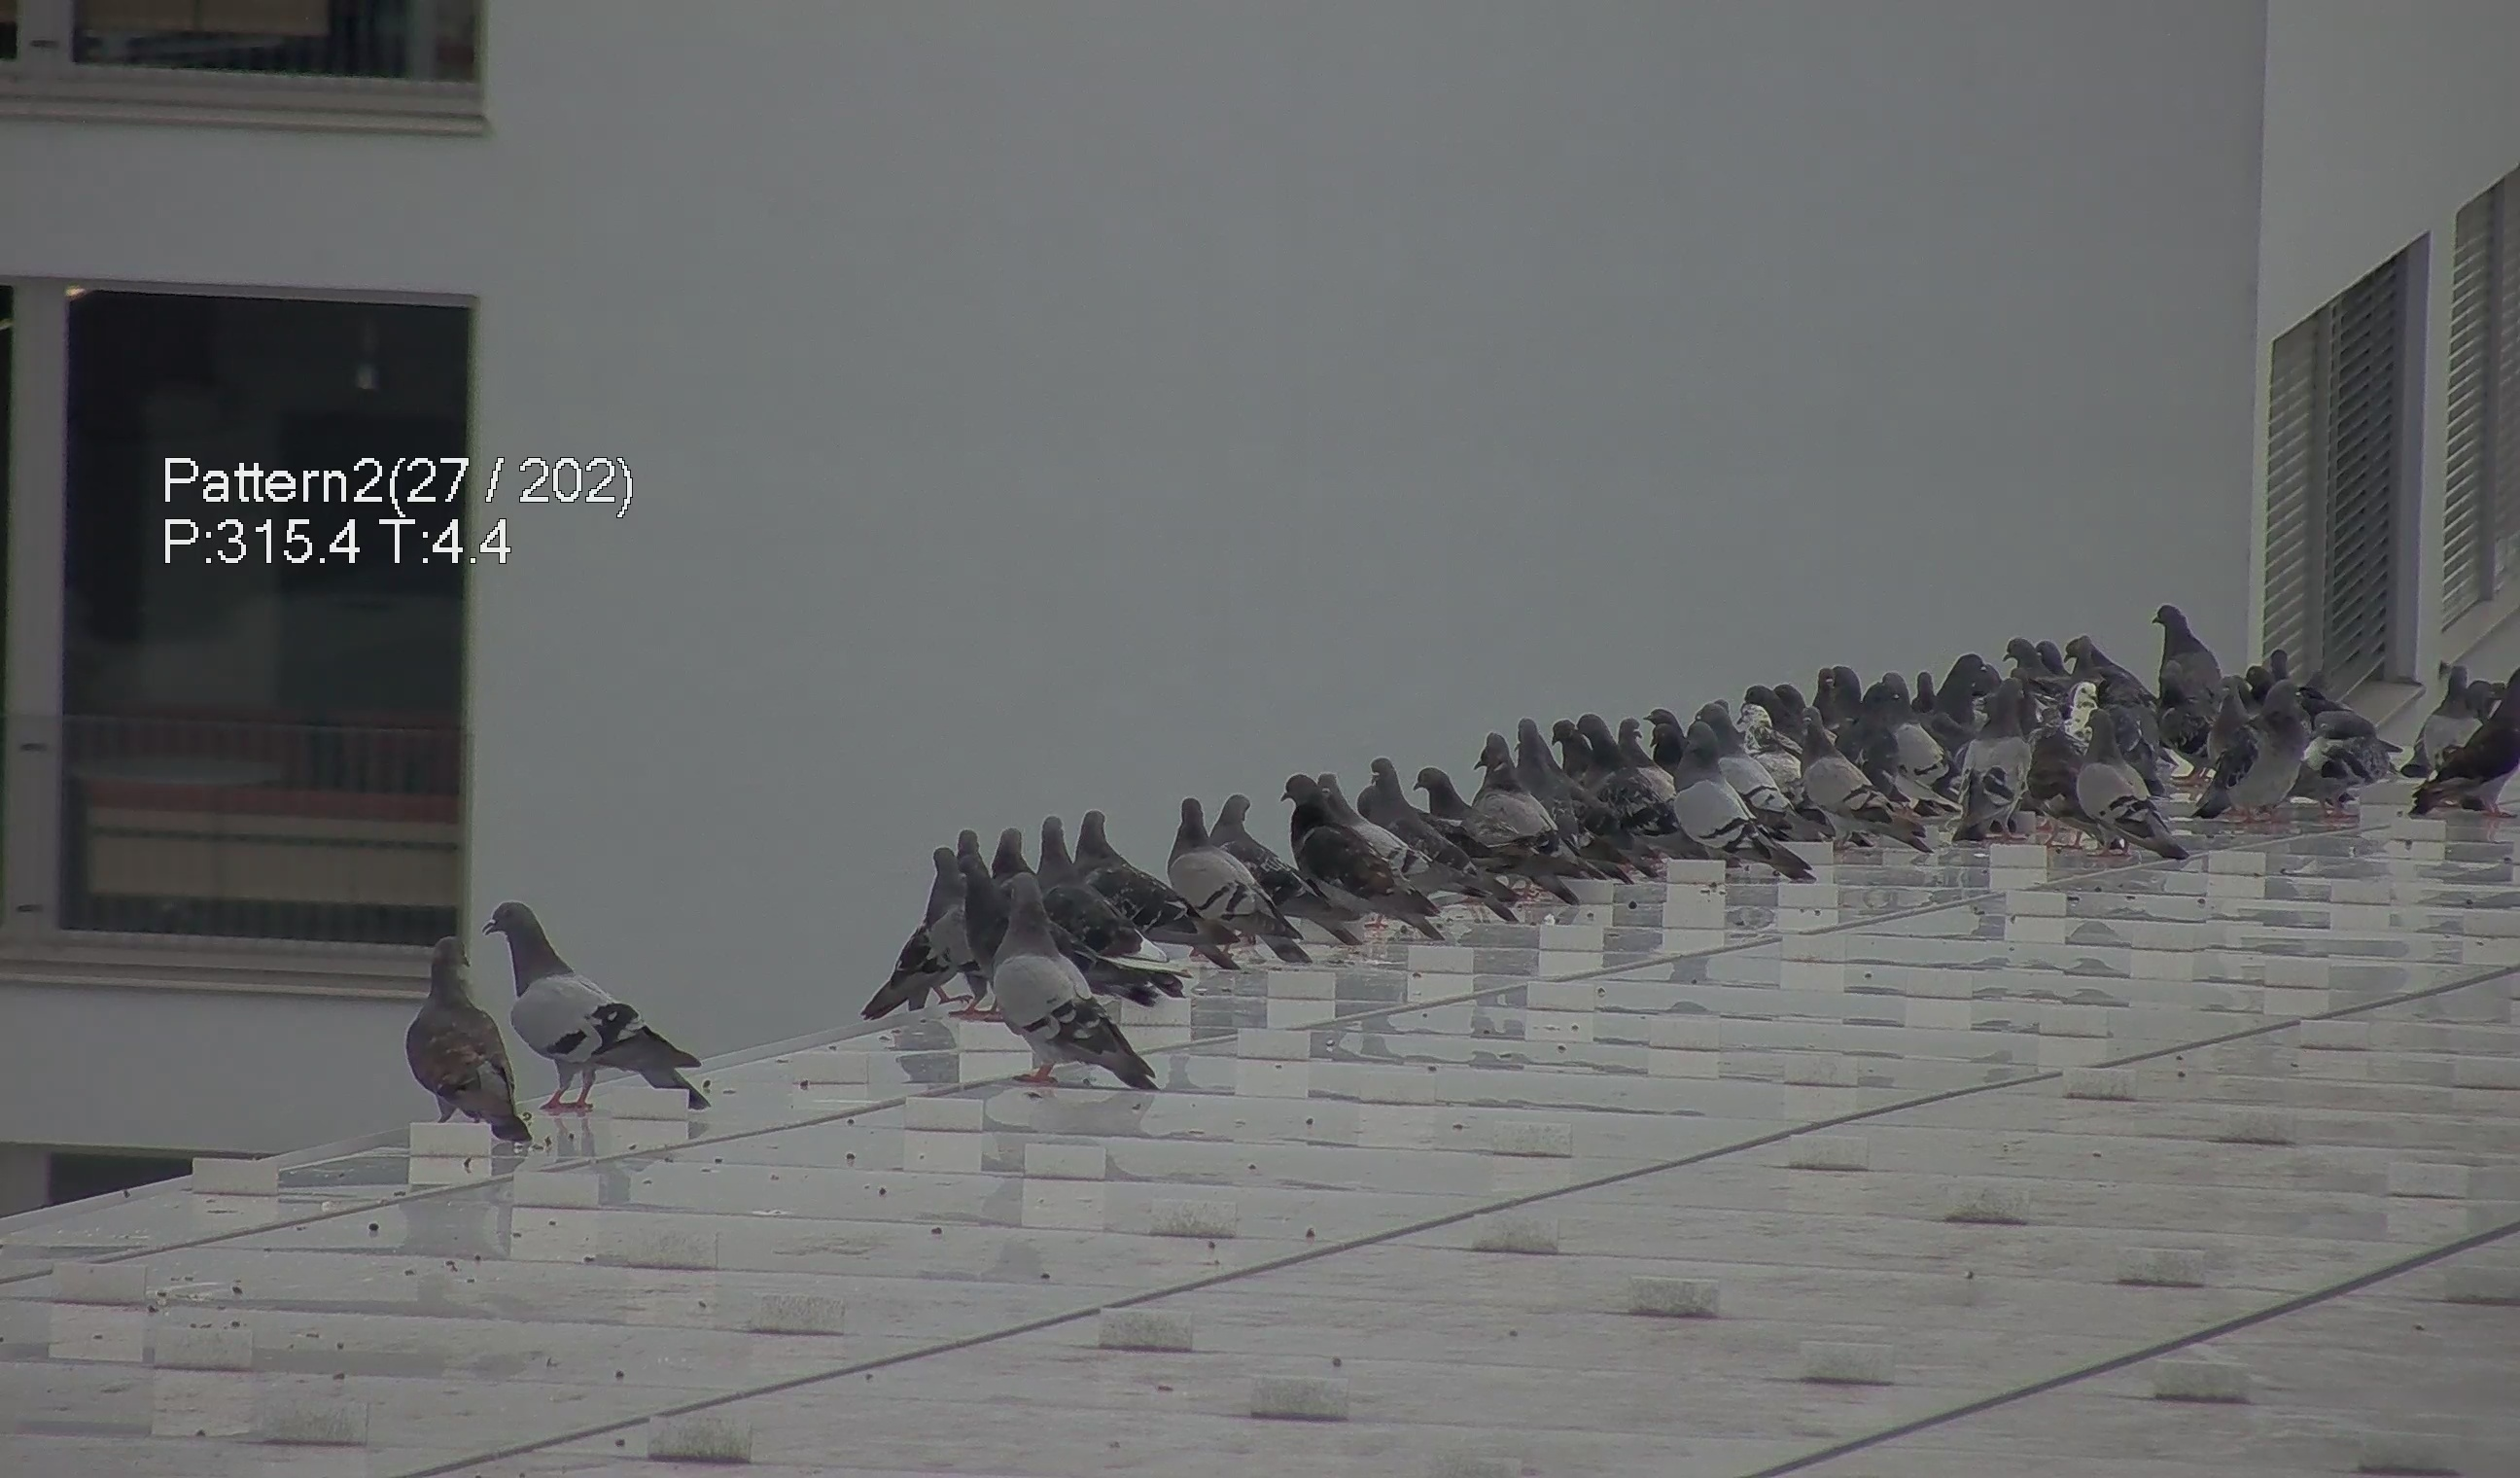Pigeon: (929, 830, 1162, 1091), (461, 892, 702, 1128), (376, 927, 531, 1156), (2181, 669, 2367, 836), (1189, 767, 1351, 936), (1164, 790, 1315, 964), (1662, 723, 1815, 887), (1066, 809, 1220, 969), (1275, 762, 1424, 917), (2188, 681, 2332, 836), (1036, 816, 1168, 971), (1799, 709, 1933, 860), (2075, 709, 2191, 876), (2414, 658, 2520, 823), (2154, 593, 2251, 758), (2274, 711, 2402, 818), (1956, 681, 2040, 843), (1577, 721, 1685, 843), (2022, 706, 2110, 838), (1878, 662, 1952, 797), (1526, 713, 1607, 834), (2399, 660, 2492, 762), (1380, 779, 1465, 883), (1479, 735, 1562, 838), (1829, 683, 1901, 790), (914, 834, 1011, 908), (1996, 633, 2072, 723), (1732, 704, 1790, 795), (2052, 623, 2117, 695), (1412, 762, 1477, 829), (2239, 639, 2304, 695)
